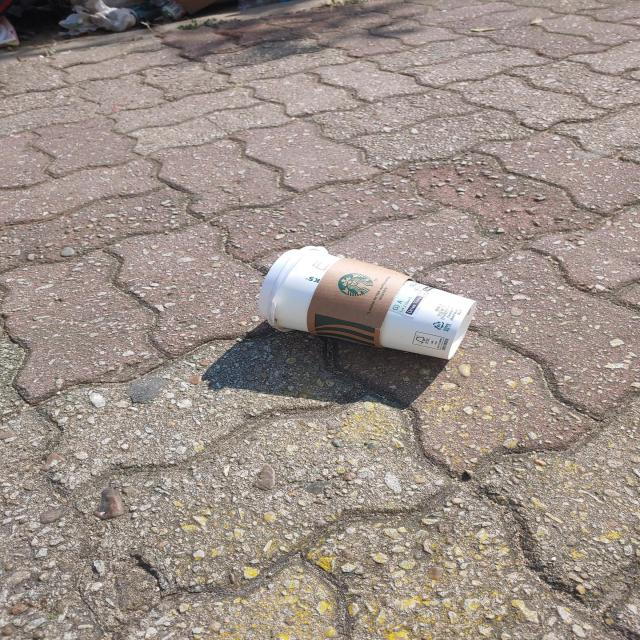paperpack: (258, 246, 476, 360)
